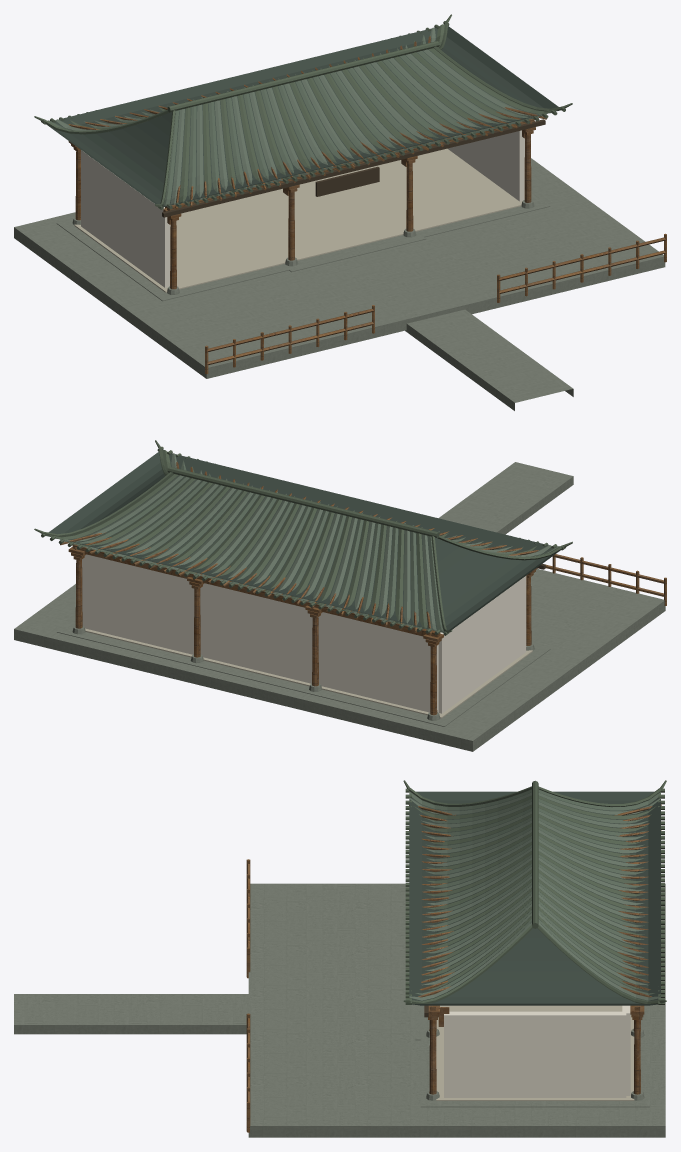
File: public_models_places_aojingxiguan.glb
3 views of the same model, one above another, from view 1: azimuth 30°, elevation 25°; view 2: azimuth 150°, elevation 25°; view 3: azimuth 270°, elevation 25° (orthographic). The views are drawn at different scales.
Visible parts, largest first — view 1: aojingxiguan_stone, aojingxiguan_paving, aojingxiguan_roof, aojingxiguan_tiledark, aojingxiguan_plaster, aojingxiguan_tilelight, aojingxiguan_wood, aojingxiguan_tile, aojingxiguan_darkwood; view 2: aojingxiguan_stone, aojingxiguan_plaster, aojingxiguan_roof, aojingxiguan_tiledark, aojingxiguan_tilelight, aojingxiguan_tile, aojingxiguan_wood, aojingxiguan_paving; view 3: aojingxiguan_stone, aojingxiguan_roof, aojingxiguan_tiledark, aojingxiguan_plaster, aojingxiguan_tilelight, aojingxiguan_tile, aojingxiguan_wood, aojingxiguan_paving.
Part boxes in pixels (x1,y1,x2,y2): aojingxiguan_stone: [14, 158, 665, 410]; aojingxiguan_paving: [74, 148, 522, 292]; aojingxiguan_roof: [46, 26, 561, 207]; aojingxiguan_tiledark: [34, 14, 572, 209]; aojingxiguan_plaster: [81, 130, 524, 287]; aojingxiguan_tilelight: [55, 27, 550, 205]; aojingxiguan_wood: [68, 36, 666, 374]; aojingxiguan_tile: [47, 35, 541, 205]; aojingxiguan_darkwood: [162, 119, 545, 217]; aojingxiguan_stone: [14, 462, 665, 751]; aojingxiguan_plaster: [82, 554, 526, 713]; aojingxiguan_roof: [46, 451, 560, 632]; aojingxiguan_tiledark: [34, 440, 572, 635]; aojingxiguan_tilelight: [56, 453, 551, 630]; aojingxiguan_tile: [65, 460, 559, 631]; aojingxiguan_wood: [60, 461, 666, 715]; aojingxiguan_paving: [85, 628, 532, 718]; aojingxiguan_stone: [14, 883, 665, 1137]; aojingxiguan_roof: [409, 791, 660, 1005]; aojingxiguan_tiledark: [403, 780, 666, 1004]; aojingxiguan_plaster: [444, 1005, 630, 1097]; aojingxiguan_tilelight: [409, 792, 660, 1000]; aojingxiguan_tile: [409, 789, 660, 995]; aojingxiguan_wood: [246, 804, 661, 1132]; aojingxiguan_paving: [436, 1005, 634, 1100].
Bounding box in the file's own units: 22.13 × 7.07 × 25.06.
Materials: 9 (2 with a texture image).
